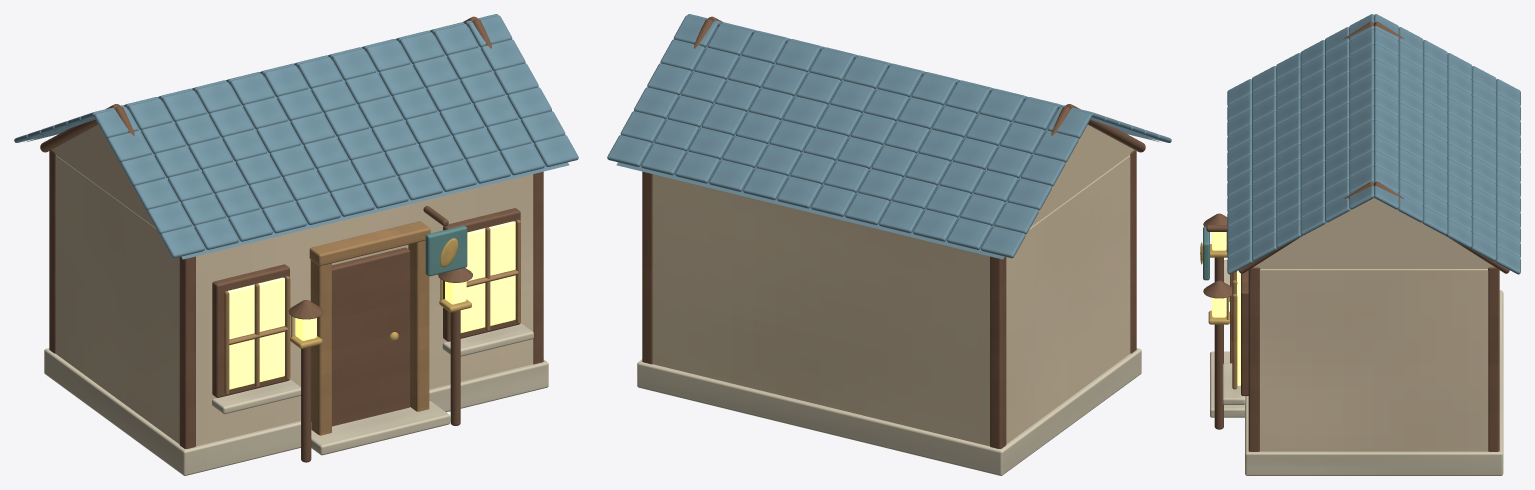
File: village-museum.glb
The picture shows the model from 3 angles, left to right: view 1: azimuth 30°, elevation 25°; view 2: azimuth 150°, elevation 25°; view 3: azimuth 270°, elevation 25°; orthographic projection. The views are drawn at different scales.
Visible parts, largest first — view 1: Forest hamlet; view 2: Forest hamlet; view 3: Forest hamlet.
Boxes of the visible parts, bbox=[...] form: Forest hamlet: bbox=[14, 14, 578, 475]; Forest hamlet: bbox=[607, 14, 1171, 475]; Forest hamlet: bbox=[1200, 14, 1520, 475].
Bounding box in the file's own units: 5 × 3.76 × 3.73.
8 materials, 8 textured.
